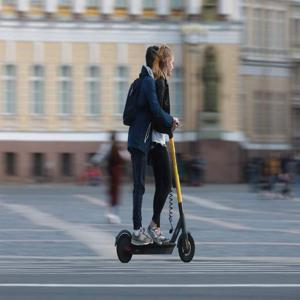human on a scooter: (112, 43, 198, 265)
